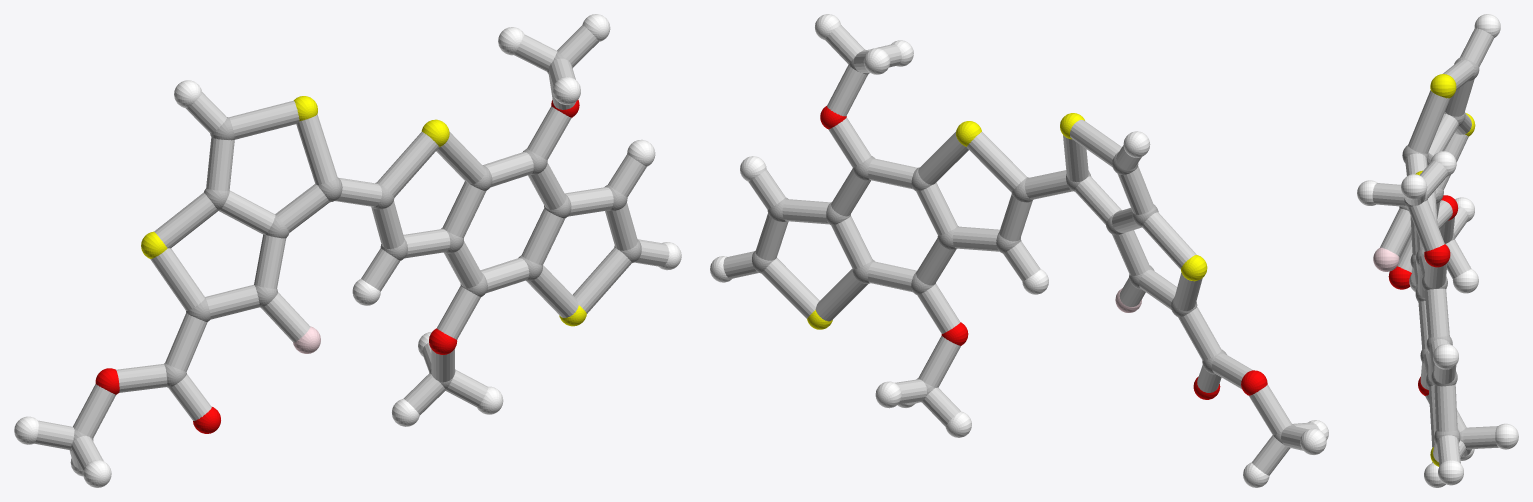
Rendered from color.glb.
The picture shows the model from 3 angles, left to right: view 1: azimuth 30°, elevation 25°; view 2: azimuth 150°, elevation 25°; view 3: azimuth 270°, elevation 25°; orthographic projection. The views are drawn at different scales.
Visible parts, largest first — view 1: grp15205, grp8689, grp1, grp7241, grp13395; view 2: grp15205, grp8689, grp1, grp7241, grp13395; view 3: grp15205, grp8689, grp1, grp13395, grp7241, grp14843.
Part boxes in pixels (bbox=[...]): grp15205: bbox=[34, 25, 669, 471]; grp8689: bbox=[14, 14, 681, 487]; grp1: bbox=[70, 51, 641, 451]; grp7241: bbox=[141, 96, 586, 326]; grp13395: bbox=[95, 99, 579, 433]; grp15205: bbox=[723, 25, 1319, 475]; grp8689: bbox=[710, 14, 1328, 487]; grp1: bbox=[752, 49, 1295, 447]; grp7241: bbox=[807, 113, 1207, 329]; grp13395: bbox=[820, 106, 1267, 399]; grp15205: bbox=[1372, 28, 1498, 465]; grp8689: bbox=[1357, 14, 1518, 487]; grp1: bbox=[1399, 57, 1479, 450]; grp13395: bbox=[1388, 195, 1458, 395]; grp7241: bbox=[1415, 74, 1475, 466]; grp14843: bbox=[1373, 247, 1399, 271].
Bounding box in the file's own units: 16.05 × 9.07 × 3.71.
